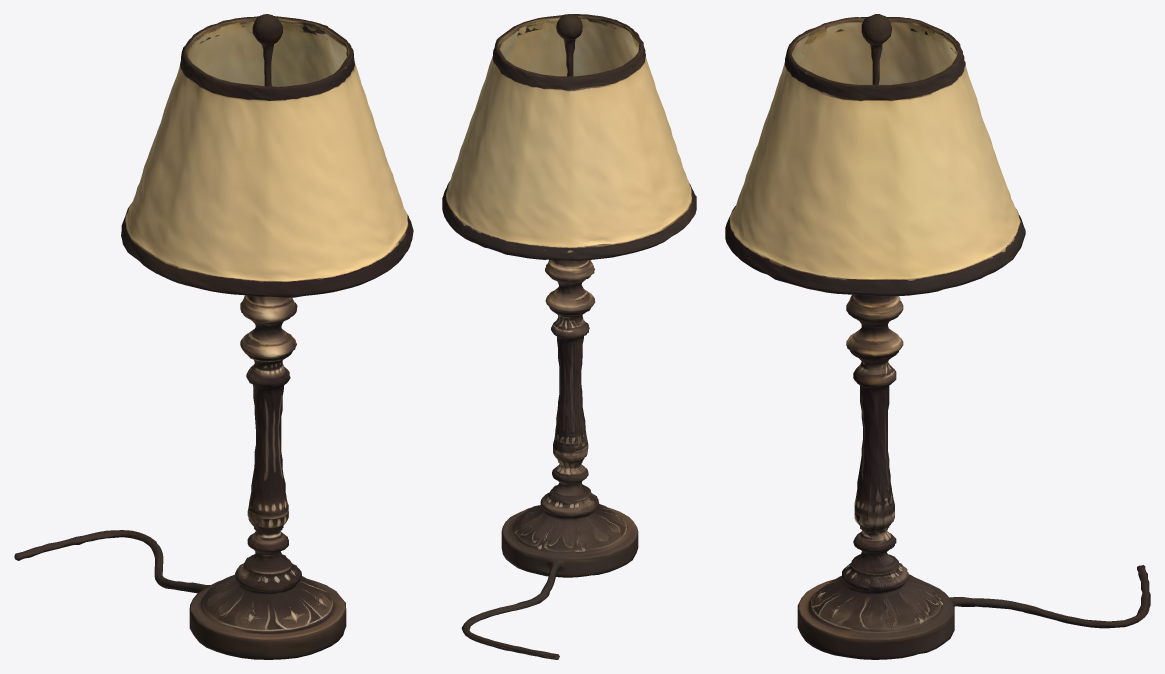
The model's file is table_lamp.glb.
3 renders of one model, left to right at view 1: azimuth 30°, elevation 25°; view 2: azimuth 150°, elevation 25°; view 3: azimuth 270°, elevation 25°, orthographic. The views are drawn at different scales.
Size of the model in its own units: 0.8141 by 1.91 by 1.2.
Materials: 1 (1 with a texture image).
